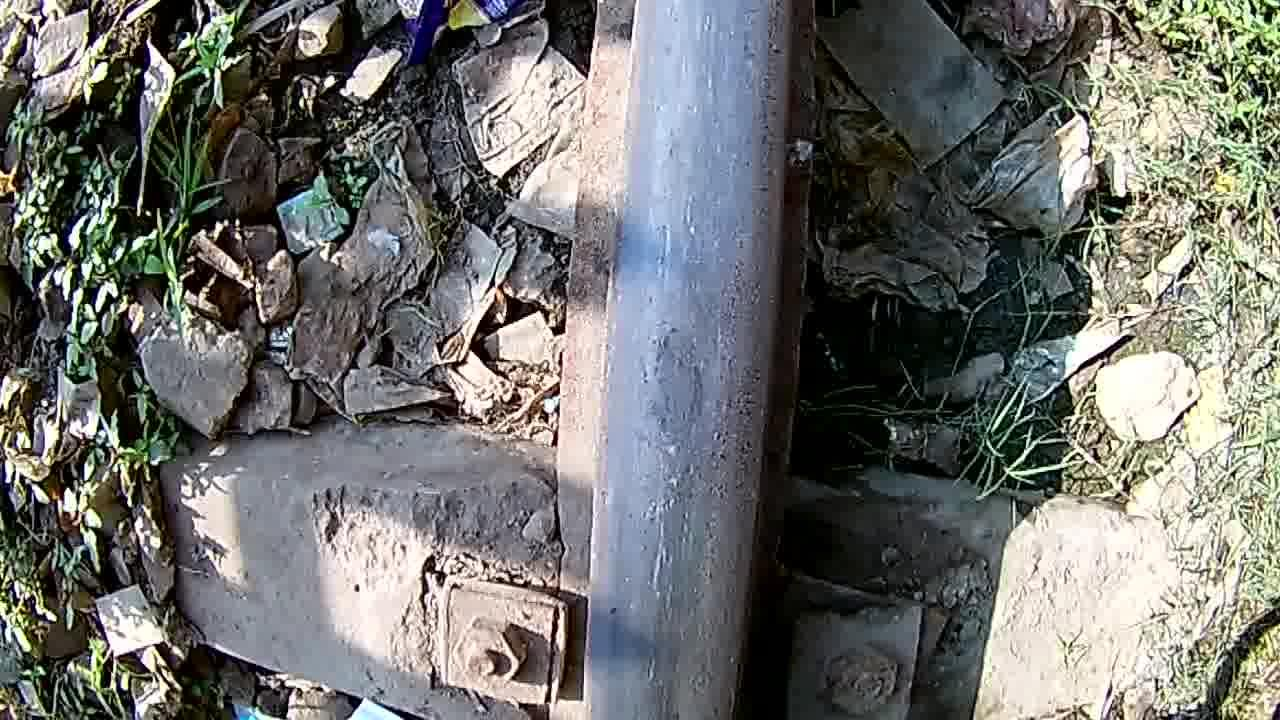bolt_missing: (598, 227, 768, 537)
